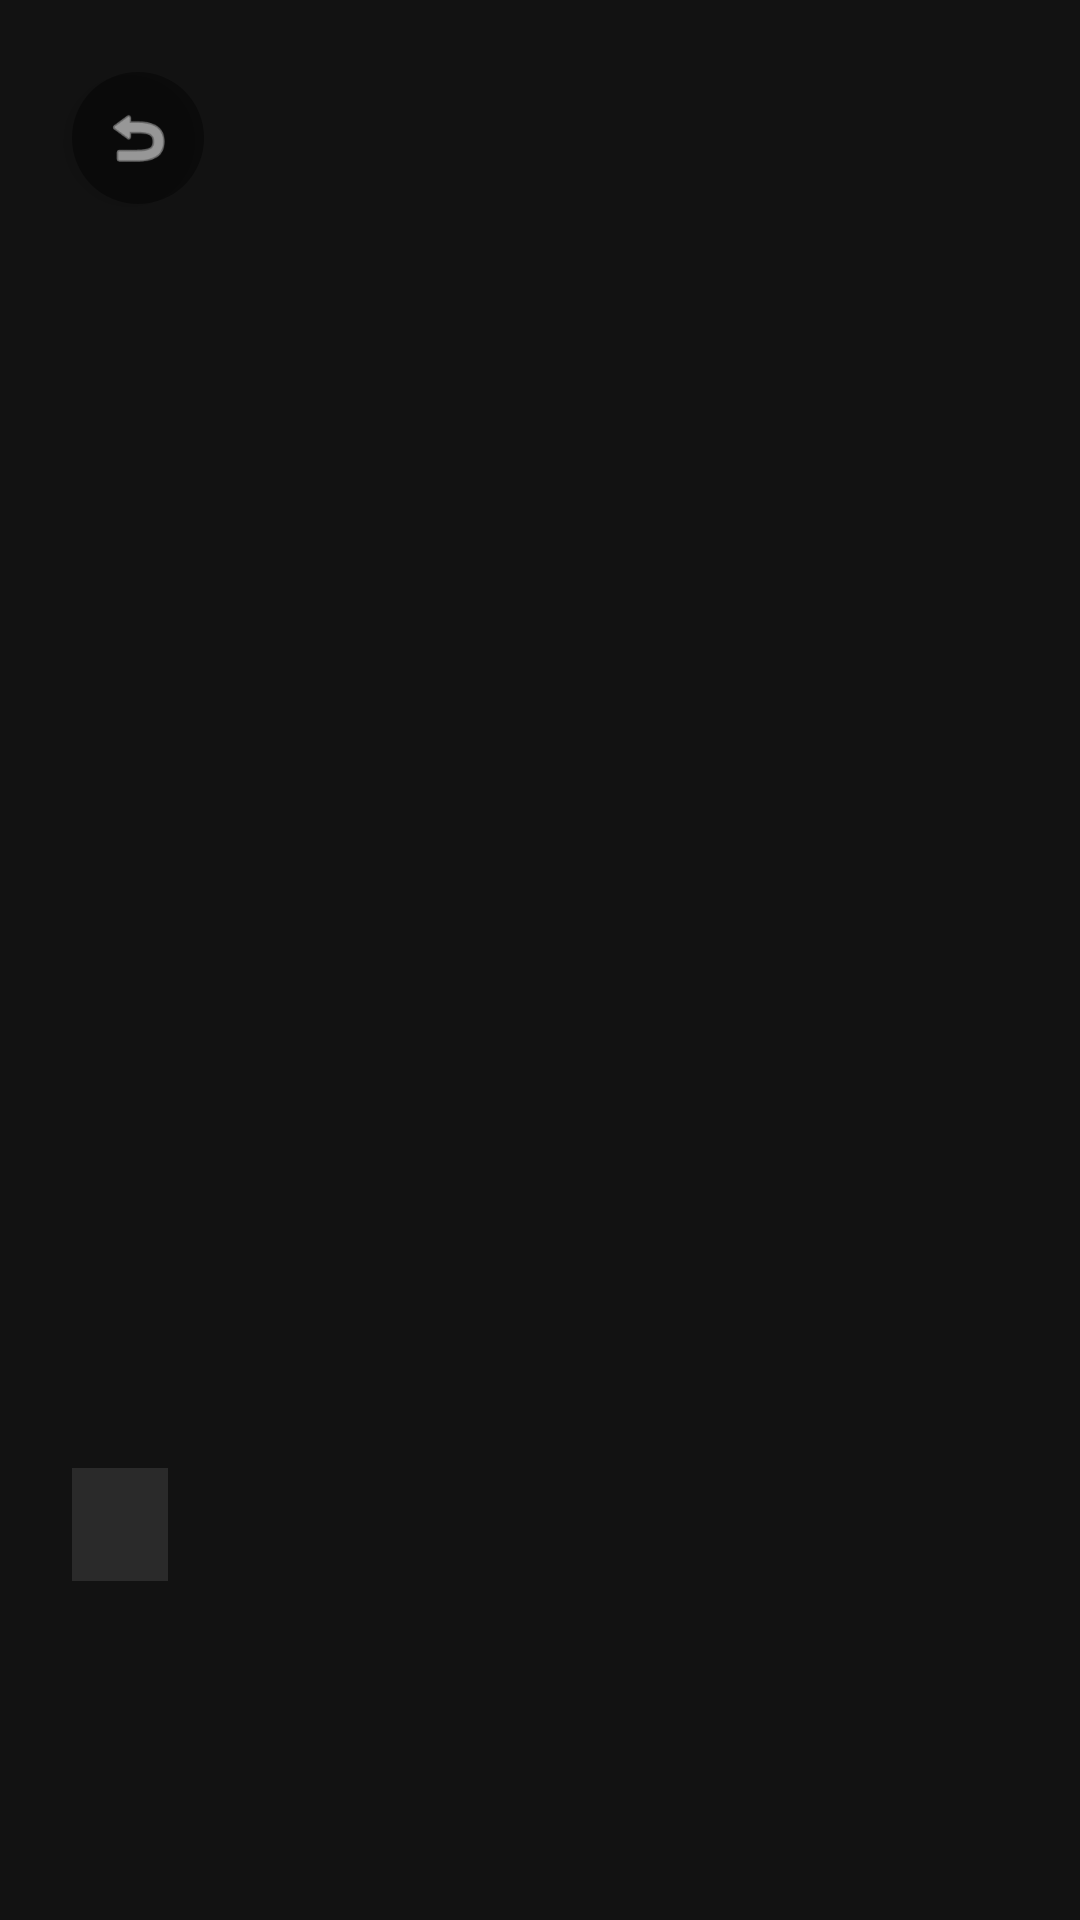

Icons on this 1080px x 1920px Android screen, each with the point to tap as [x,y]:
revert: [139,138]
